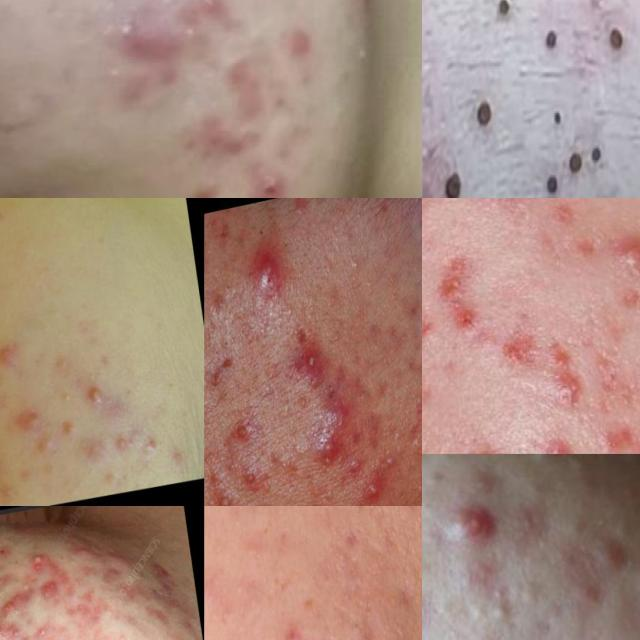acne_scars: (197, 34, 300, 122), (437, 236, 488, 338), (182, 109, 273, 162), (486, 308, 544, 358), (598, 336, 632, 402), (552, 324, 576, 398)
comedone: (600, 13, 633, 81), (458, 595, 523, 623), (342, 35, 381, 77), (170, 22, 216, 56), (96, 54, 136, 93), (476, 101, 500, 142), (538, 23, 563, 59), (439, 166, 466, 198), (565, 139, 588, 176), (55, 382, 79, 417), (542, 164, 562, 198), (586, 139, 607, 170), (546, 103, 563, 140), (110, 428, 134, 454), (165, 441, 186, 469), (512, 454, 560, 466), (498, 0, 514, 34), (143, 427, 158, 456), (576, 189, 598, 198), (10, 576, 22, 588), (11, 558, 22, 570), (0, 529, 3, 542), (0, 552, 2, 564)
keloid: (99, 539, 134, 570), (60, 540, 100, 562)
papule: (97, 8, 158, 57), (433, 494, 484, 546), (244, 242, 288, 298), (1, 396, 47, 438), (470, 615, 534, 640), (251, 165, 296, 198), (0, 332, 32, 374), (181, 172, 226, 198), (466, 427, 509, 454), (316, 391, 348, 426), (188, 0, 236, 16), (462, 198, 530, 205)
pustule: (593, 224, 640, 271), (75, 374, 106, 418), (230, 409, 259, 439), (237, 462, 260, 492), (297, 344, 320, 372), (25, 549, 50, 574), (364, 475, 387, 499), (220, 477, 234, 506), (34, 623, 48, 640)
sebo-crystan-conglo: (302, 423, 341, 470), (0, 588, 29, 619), (376, 444, 401, 475), (0, 621, 26, 640), (39, 577, 60, 599)
